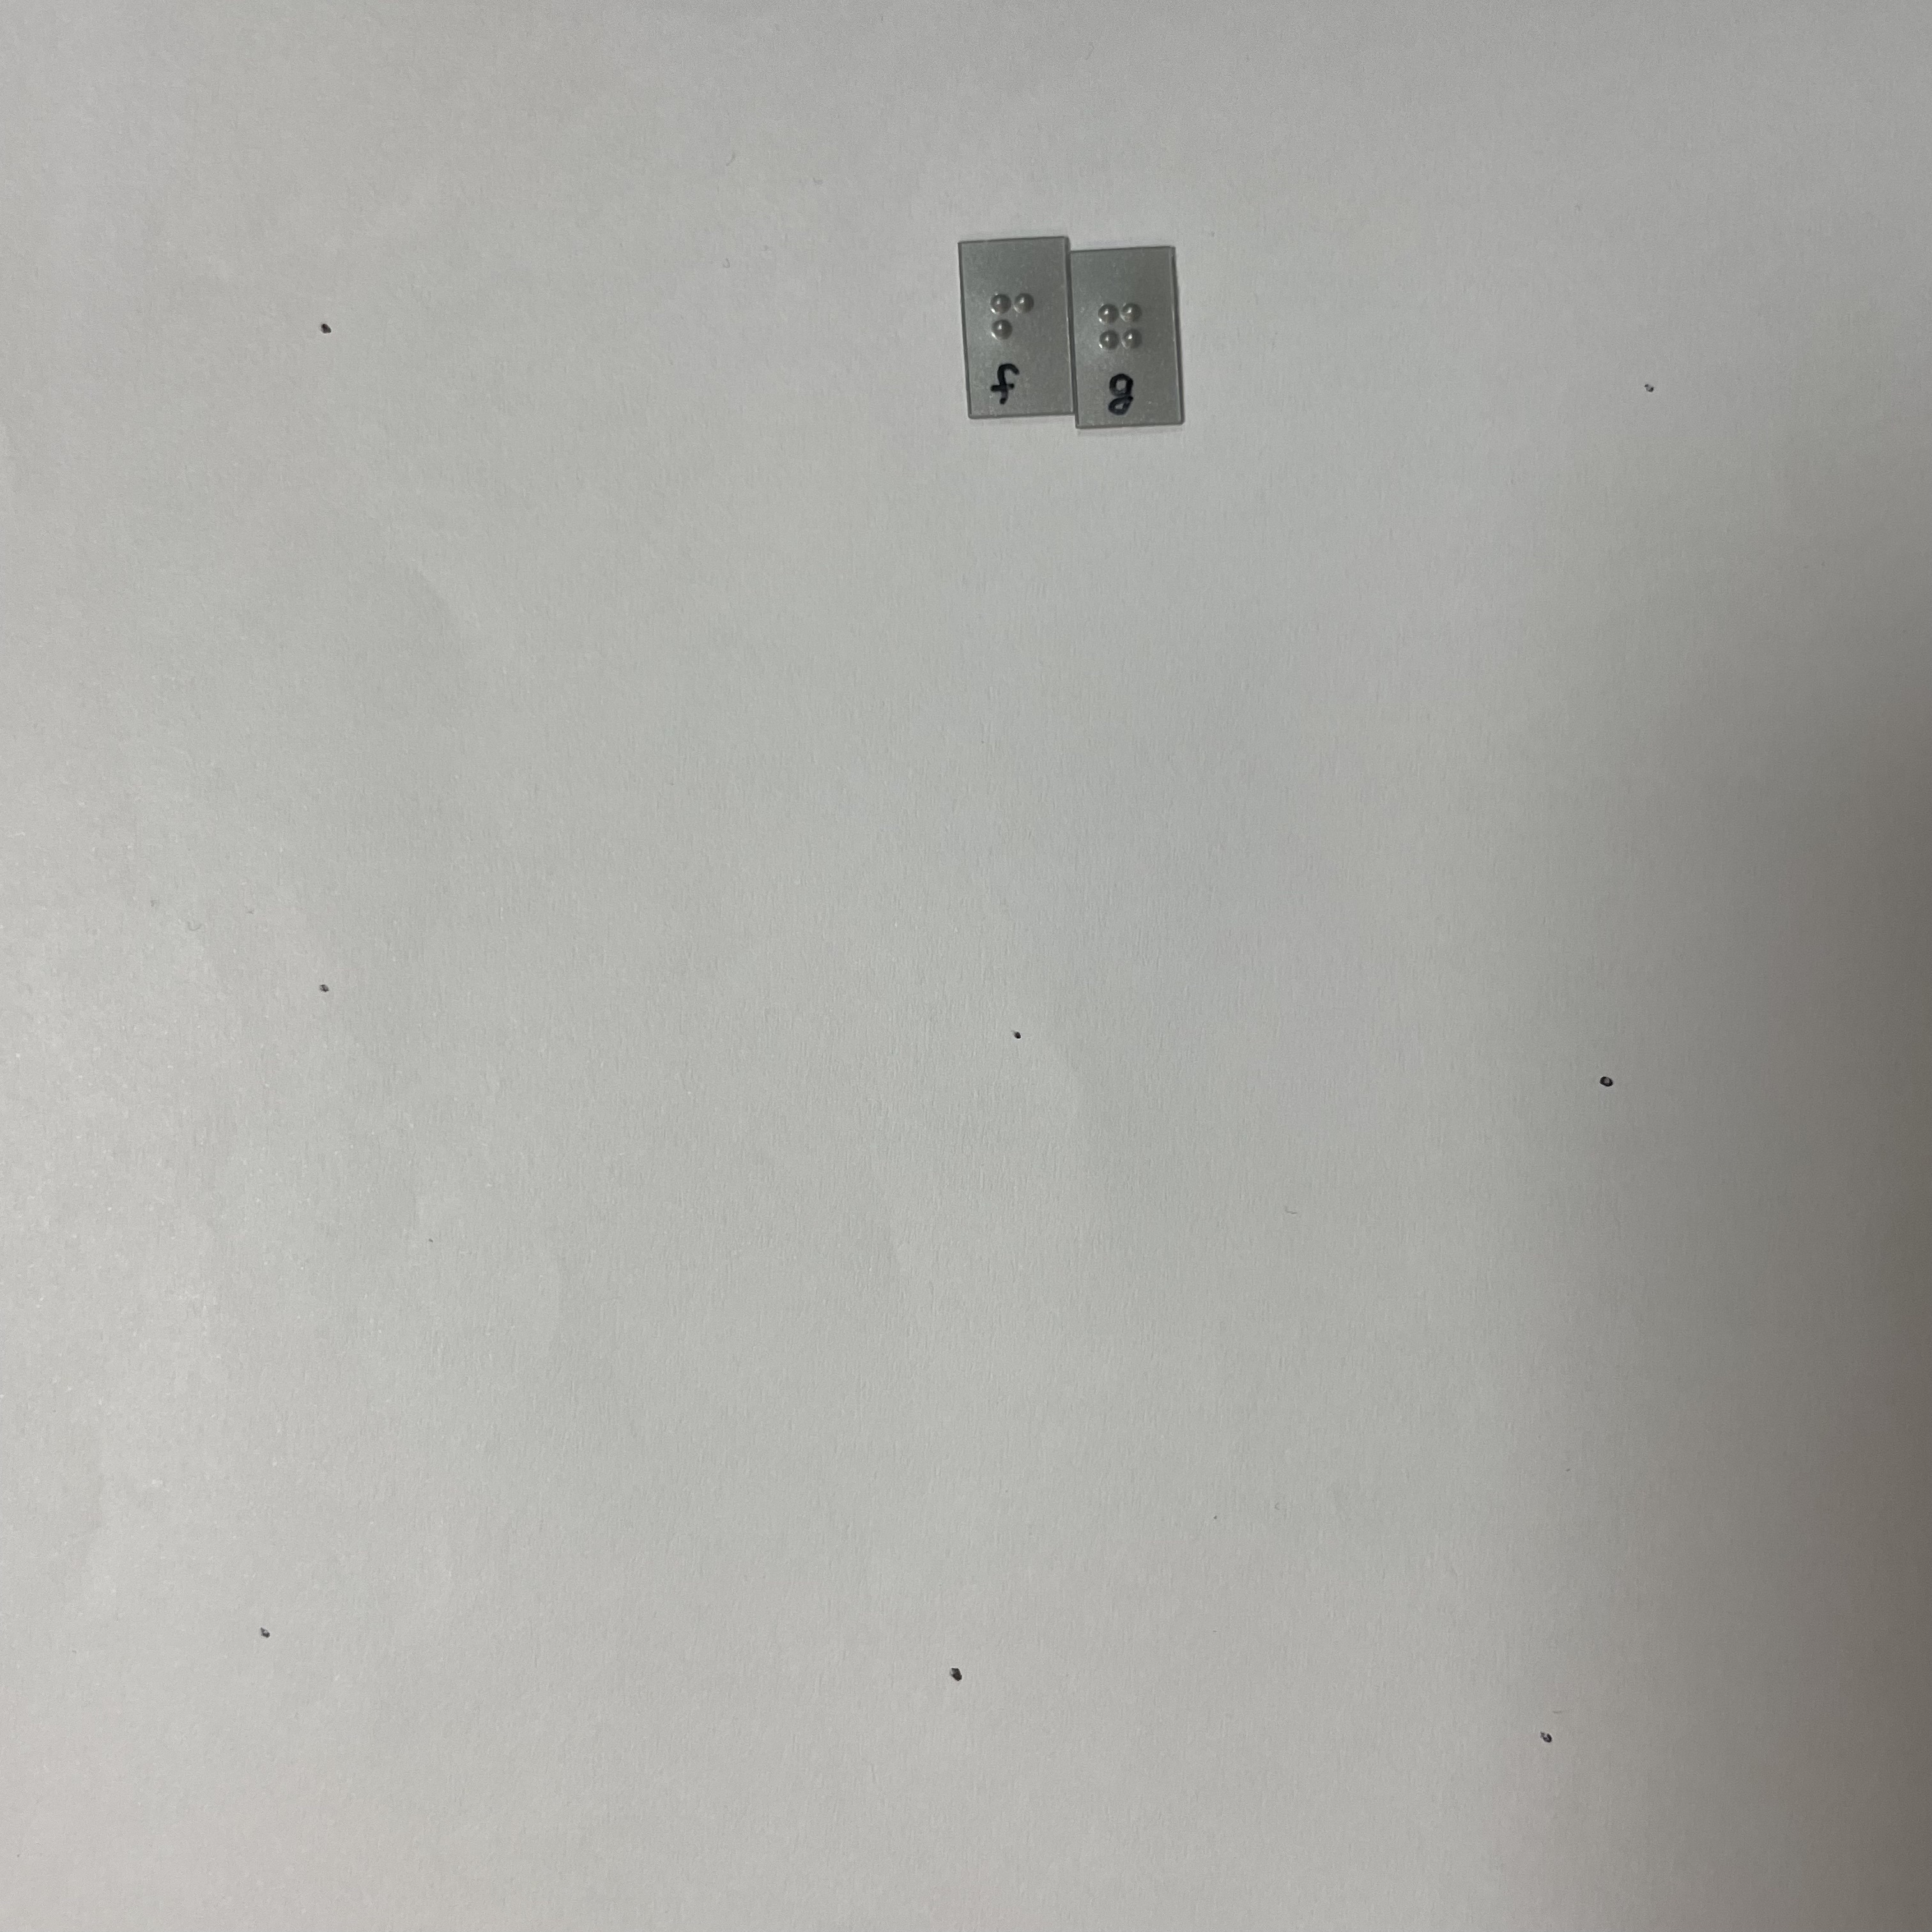f: (980, 284, 1053, 374)
g: (1089, 294, 1155, 388)
